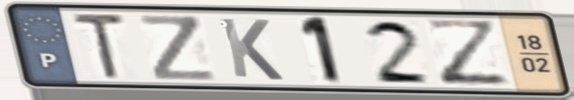1: (296, 14, 346, 87)
2: (361, 18, 433, 86)
K: (216, 15, 288, 83)
T: (68, 11, 129, 82)
Z: (420, 16, 515, 88), (135, 13, 222, 83)
